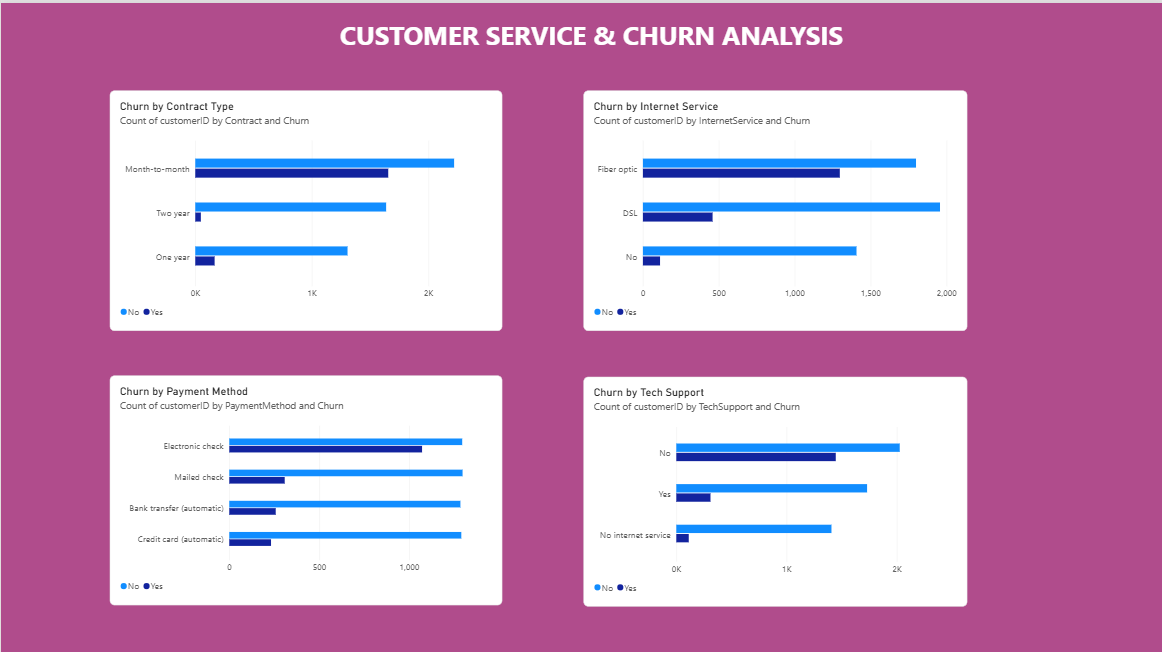

The page's visual inventory and layout, read from the dashboard file:
{"tool":"powerbi","page":{"name":"Services Analysis","canvas":[1920,1080],"ordinal":2},"visuals":[{"type":"clusteredBarChart","title":"Churn by Contract Type","fields":{"Category":["WA_Fn-UseC_-Telco-Customer-Churn.Contract"],"Series":["WA_Fn-UseC_-Telco-Customer-Churn.Churn"],"Y":["CountNonNull(WA_Fn-UseC_-Telco-Customer-Churn.customerID)"]},"box":[180,143.3,646,396],"z":0},{"type":"clusteredBarChart","title":"Churn by Internet Service","fields":{"Category":["WA_Fn-UseC_-Telco-Customer-Churn.InternetService"],"Series":["WA_Fn-UseC_-Telco-Customer-Churn.Churn"],"Y":["CountNonNull(WA_Fn-UseC_-Telco-Customer-Churn.customerID)"]},"box":[960,143.3,632,396],"z":1000},{"type":"clusteredBarChart","title":"Churn by Payment Method","fields":{"Category":["WA_Fn-UseC_-Telco-Customer-Churn.PaymentMethod"],"Series":["WA_Fn-UseC_-Telco-Customer-Churn.Churn"],"Y":["CountNonNull(WA_Fn-UseC_-Telco-Customer-Churn.customerID)"]},"box":[180,613.3,646,378],"z":2000},{"type":"clusteredBarChart","title":"Churn by Tech Support","fields":{"Category":["WA_Fn-UseC_-Telco-Customer-Churn.TechSupport"],"Series":["WA_Fn-UseC_-Telco-Customer-Churn.Churn"],"Y":["CountNonNull(WA_Fn-UseC_-Telco-Customer-Churn.customerID)"]},"box":[960,616,632,378],"z":3000},{"type":"textbox","box":[90,23.3,1763.3,83.3],"z":4000}]}

Visuals, with their boxes in screenshot pixels (x1, y1, x2, y2), scaled from the page's 1920x1080 canvas onto the 1162x652 screenshot:
"Churn by Contract Type" clusteredBarChart: detection(109, 87, 500, 326)
"Churn by Internet Service" clusteredBarChart: detection(581, 87, 963, 326)
"Churn by Payment Method" clusteredBarChart: detection(109, 370, 500, 598)
"Churn by Tech Support" clusteredBarChart: detection(581, 372, 963, 600)
textbox: detection(54, 14, 1122, 64)
